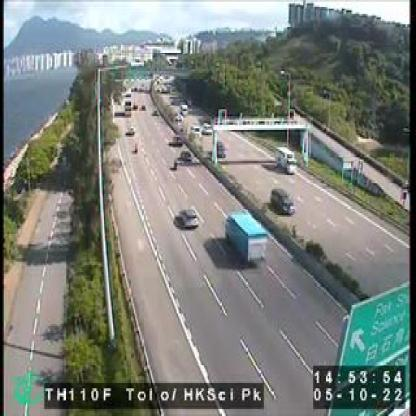Car: (270, 187, 294, 212), (273, 146, 295, 173), (181, 208, 196, 225), (216, 139, 225, 156), (181, 151, 192, 161)
Truck: (225, 210, 265, 263)
